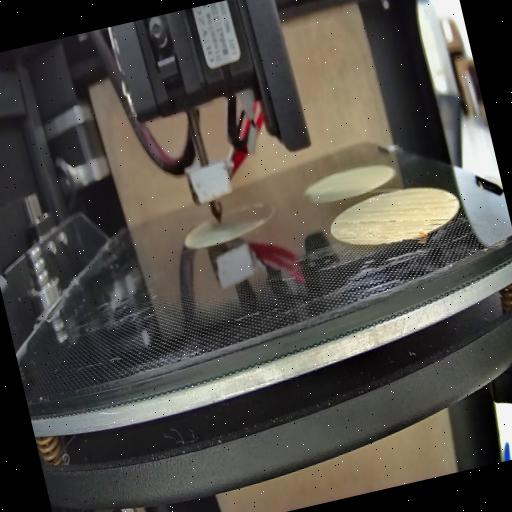under_extrusion: (354, 210, 406, 235), (420, 213, 450, 234), (436, 196, 460, 213), (370, 230, 392, 244), (340, 232, 359, 246), (402, 228, 420, 240)
